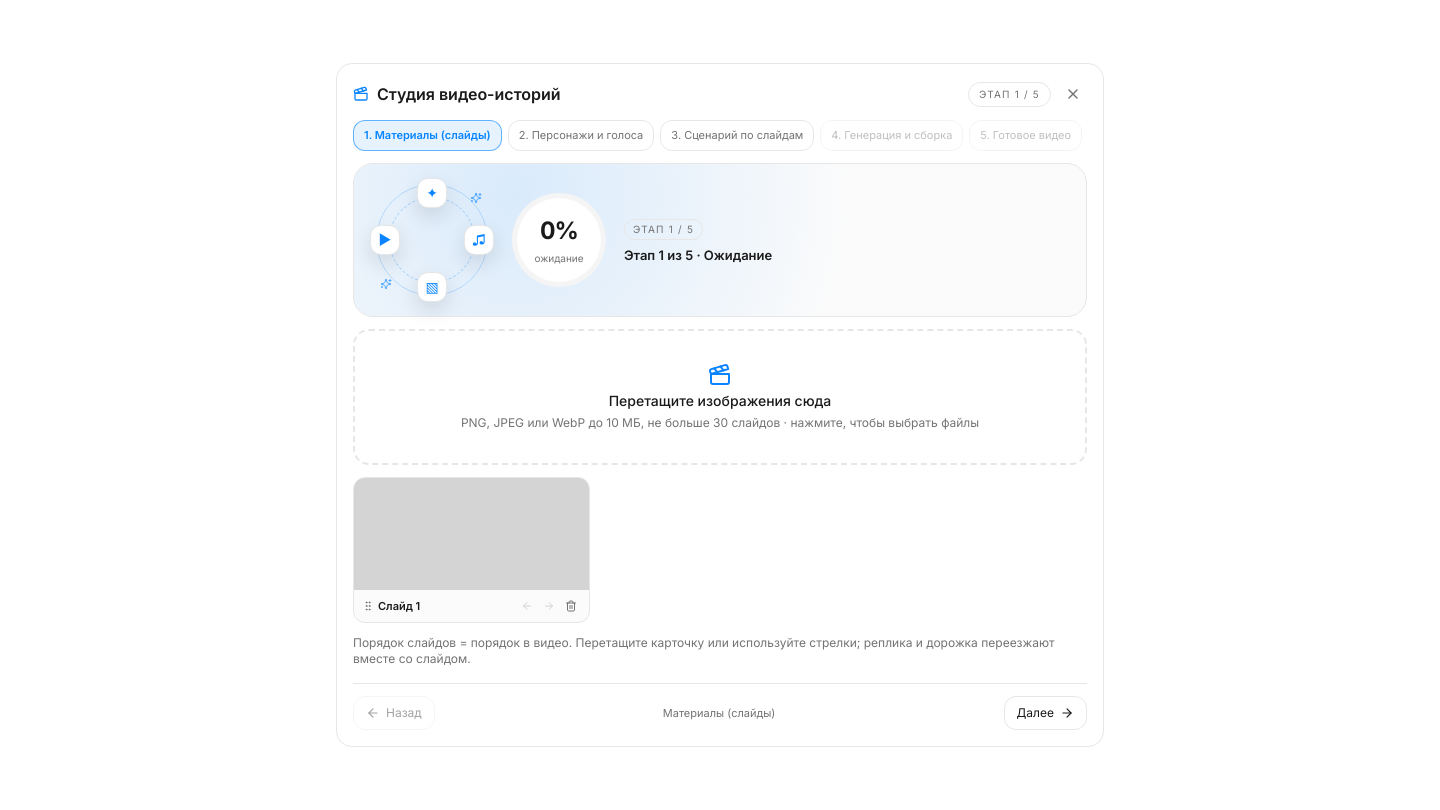
студия: этап 4 — генерация и сборка › полный сбой озвучки показывает точную причину и не даёт видео
Earlier steps of the test are not shown.
Click the button with test id "story-stage-3" at x=737, y=136, box x1=660 y1=120 x2=814 y2=151
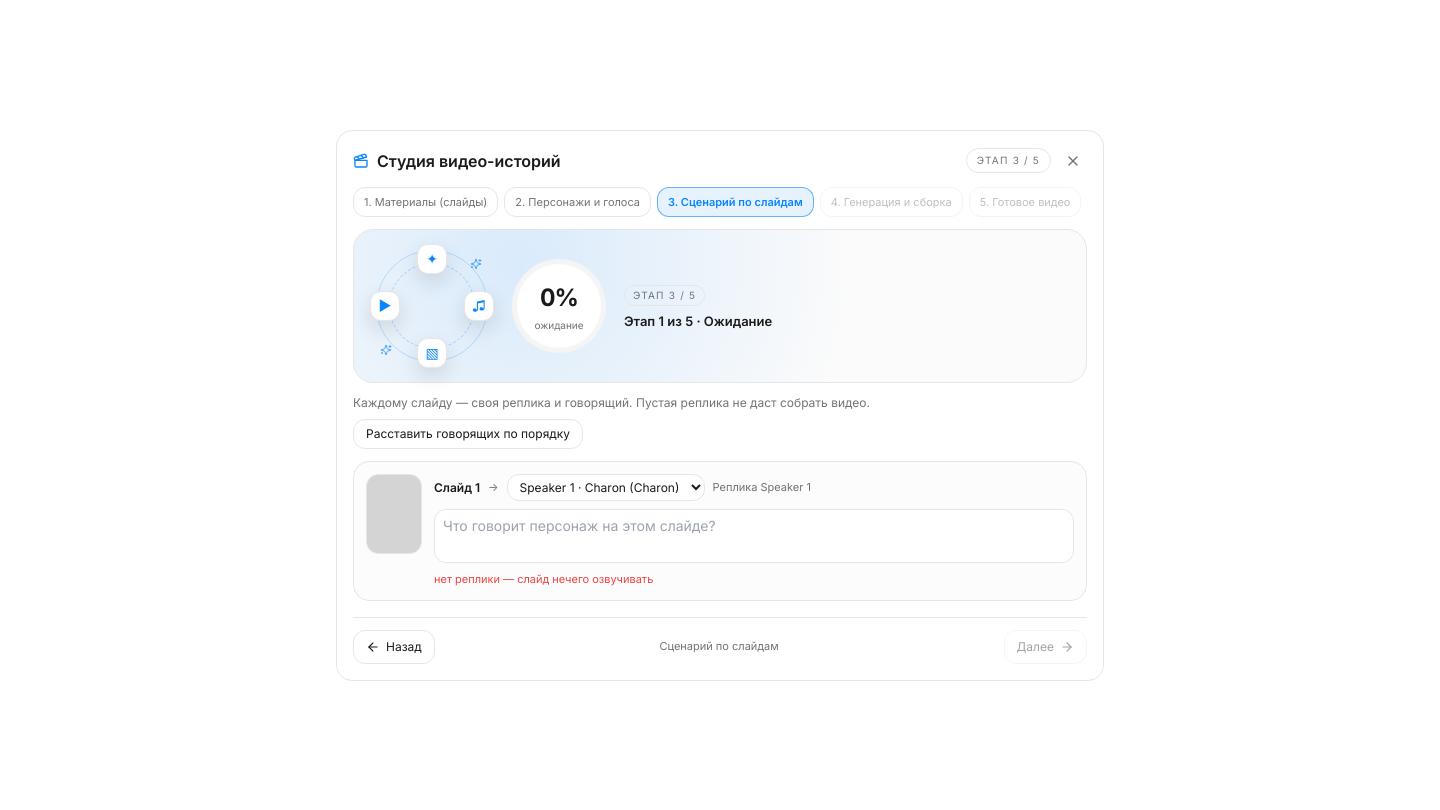
expect the text box with test id "story-script-1" is shown: met
Type "Реплика слайда 1" into the text box with test id "story-script-1" at x=754, y=536, box x1=434 y1=509 x2=1074 y2=563
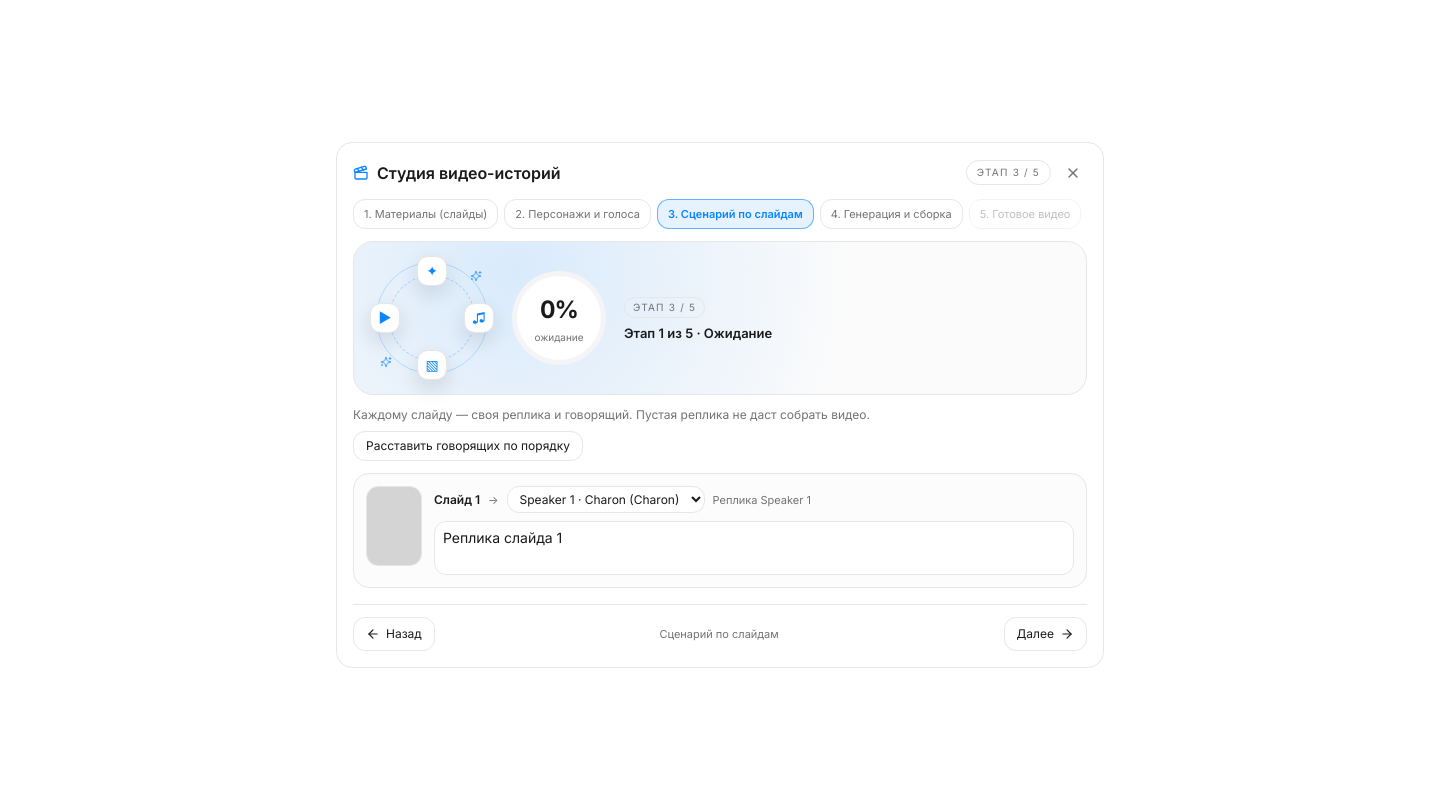
Click the button with test id "story-stage-4" at x=891, y=214, box x1=820 y1=199 x2=963 y2=229
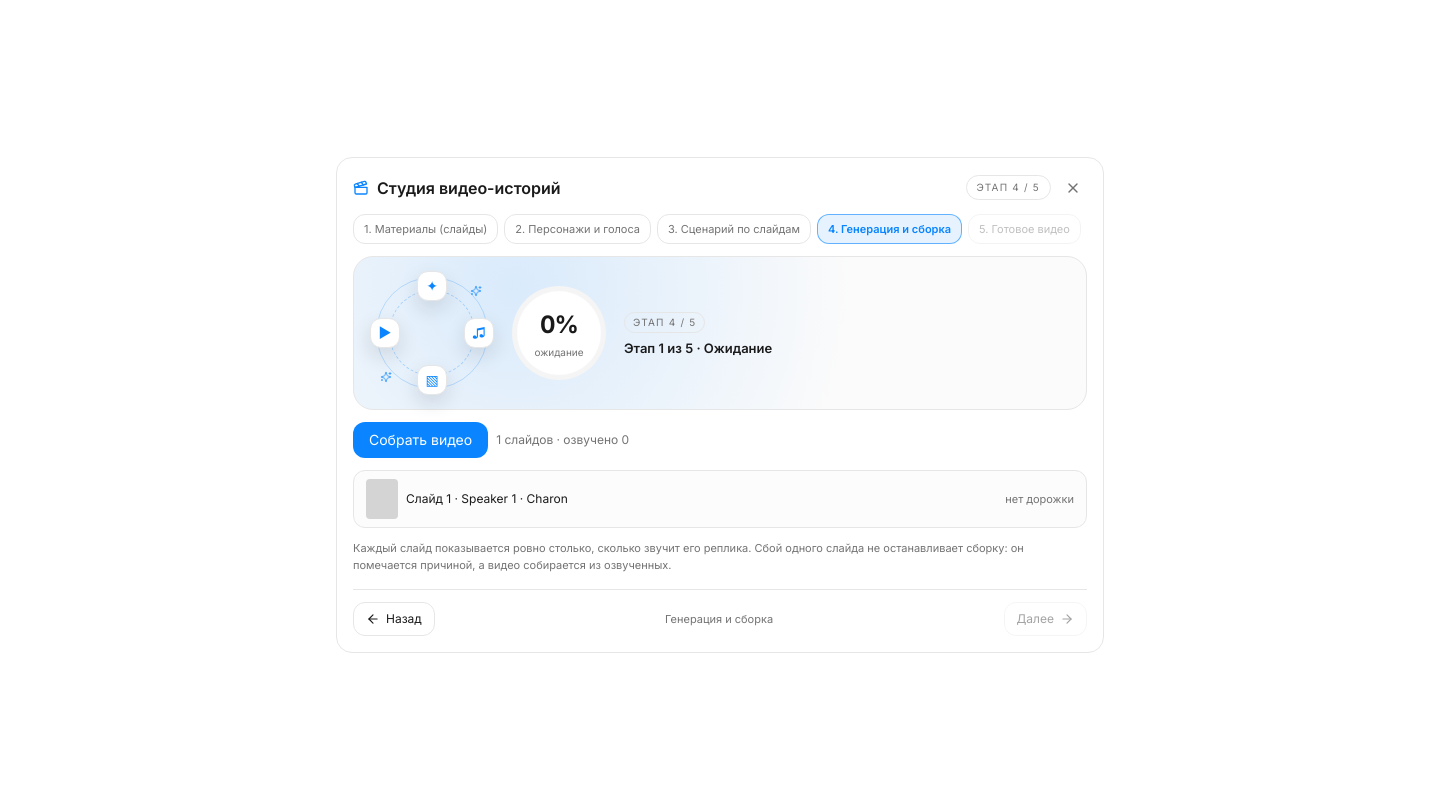
Click the button with test id "story-generate" at x=421, y=440, box x1=353 y1=422 x2=488 y2=458
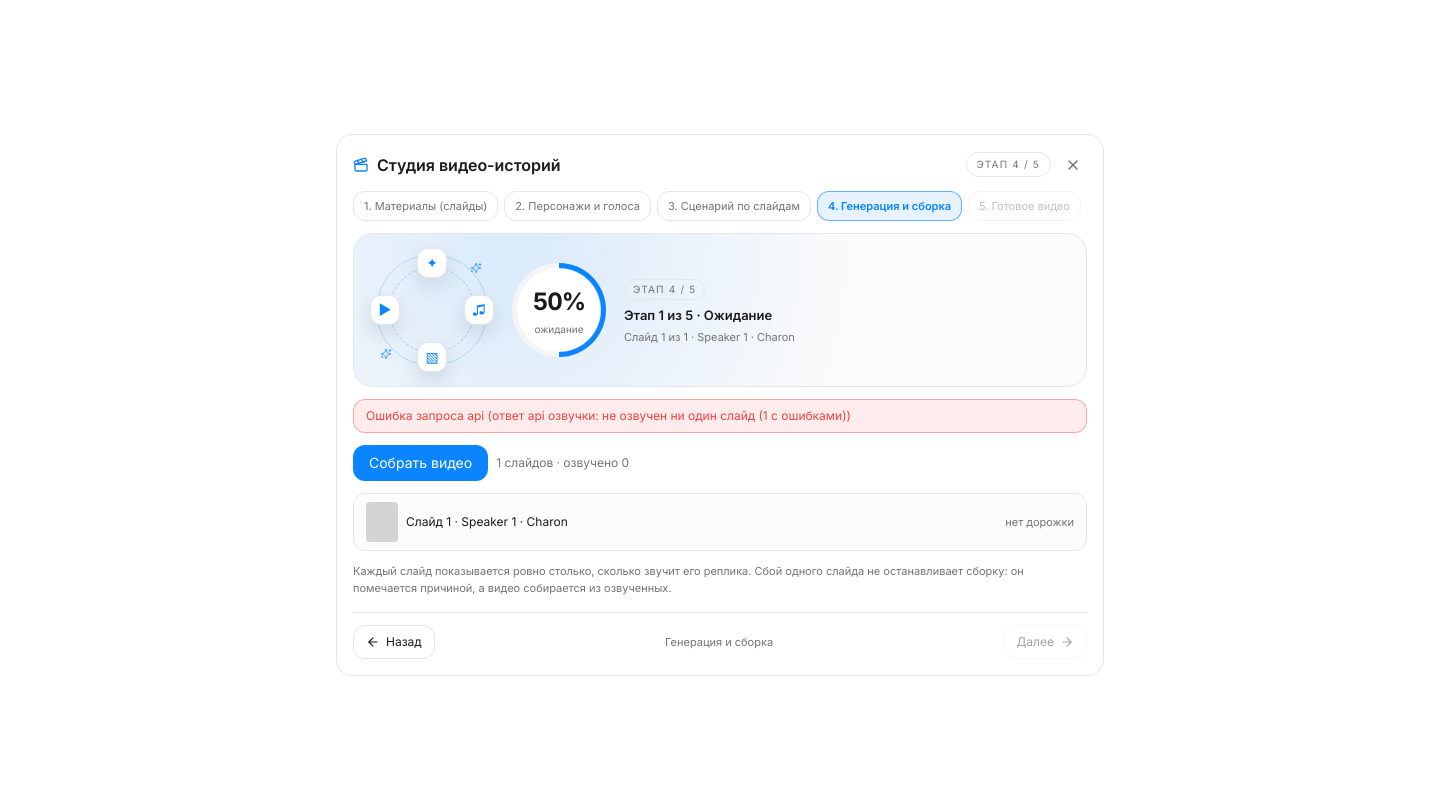
expect the button with test id "story-generate" is enabled: met, box x1=353 y1=445 x2=488 y2=481
expect the message with test id "story-error" is shown: met, box x1=353 y1=399 x2=1087 y2=433
